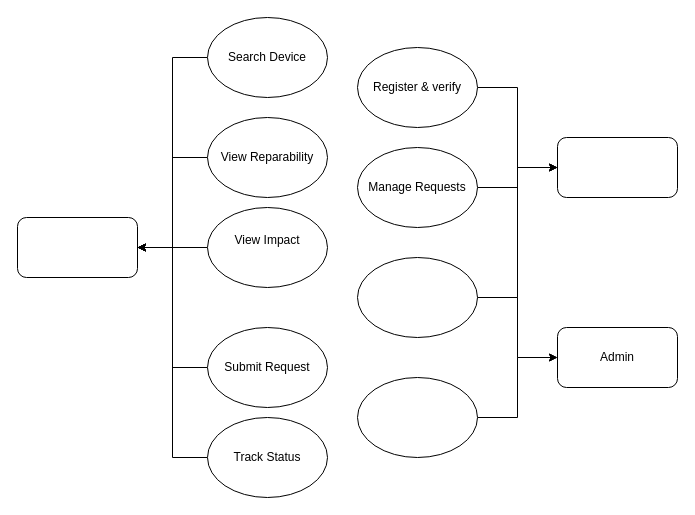
Image size: 695x515. Some labels were removed from this diagram. Here are the shapes that lost their labels. From the top down, the centre of each, then its label:
the point at 617,167: Repair Shop
the point at 77,247: Owner
the point at 417,297: Update Parts
the point at 417,417: Manage Platform
